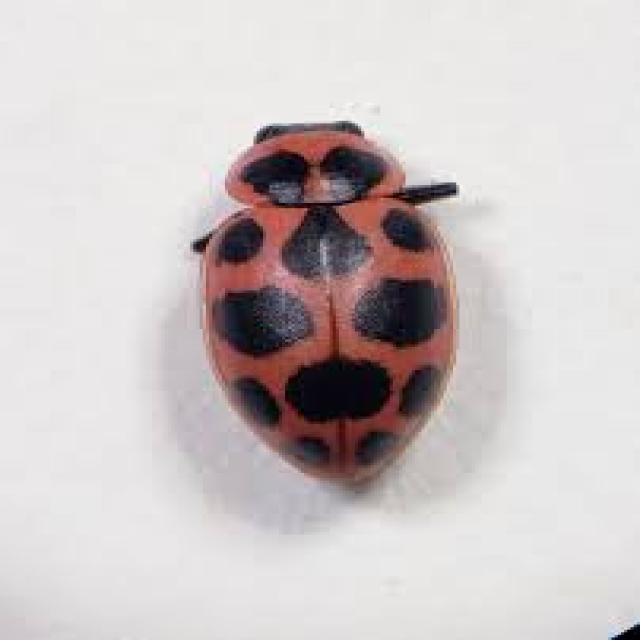bug: (187, 111, 488, 504)
